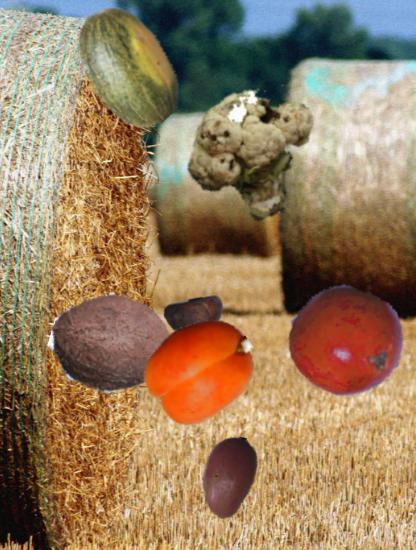Apricot: (144, 313, 256, 425)
Cauliflower: (186, 83, 327, 224)
Chestnut: (164, 286, 226, 348)
Cocos: (50, 283, 173, 406)
Melon: (64, 3, 192, 131)
Pomegranate: (289, 282, 405, 398)
Potato: (187, 435, 272, 520)
